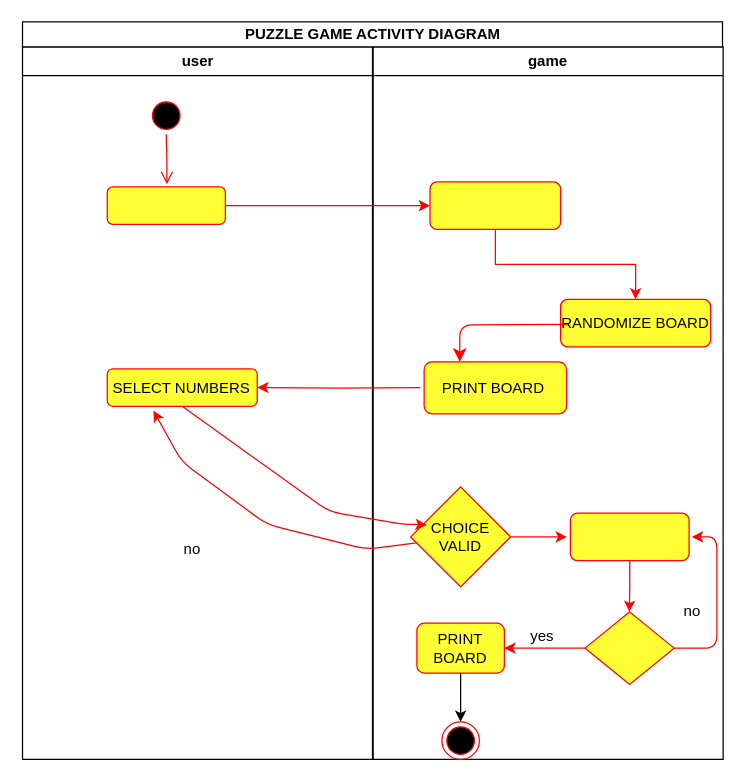
Image size: 749x781. Some labels were removed from this diagram. Each missing label, with the centre of its shape:
"check winner" belongs at pixel 629 647.
"INITIALIZEBOARD" belongs at pixel 495 205.
"move char" belongs at pixel 629 536.
"START GAME" belongs at pixel 165 205.
